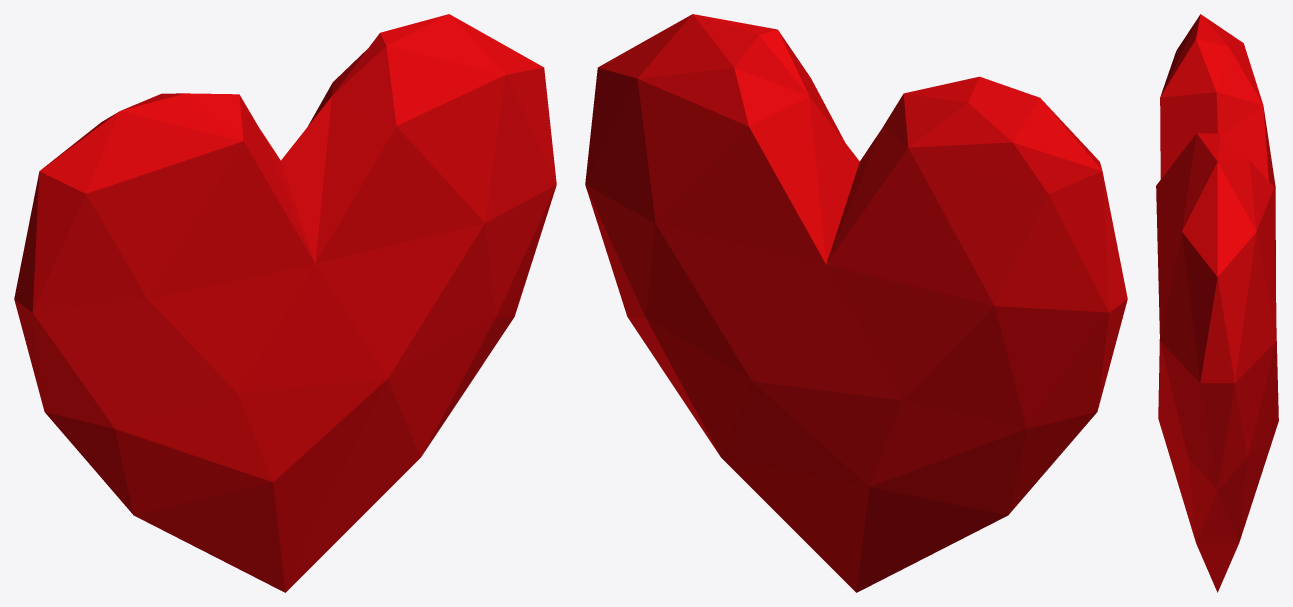
The model's file is serce.fbx.
3 renders of one model, left to right at view 1: azimuth 30°, elevation 25°; view 2: azimuth 150°, elevation 25°; view 3: azimuth 270°, elevation 25°, orthographic. The views are drawn at different scales.
Visible parts, largest first — view 1: organ; view 2: organ; view 3: organ.
Part boxes in pixels (left/top/right/bottom): organ: left=14, top=14, right=556, bottom=592; organ: left=585, top=14, right=1127, bottom=592; organ: left=1156, top=14, right=1278, bottom=592.
Bounding box in the file's own units: 220 × 217 × 47.6.
